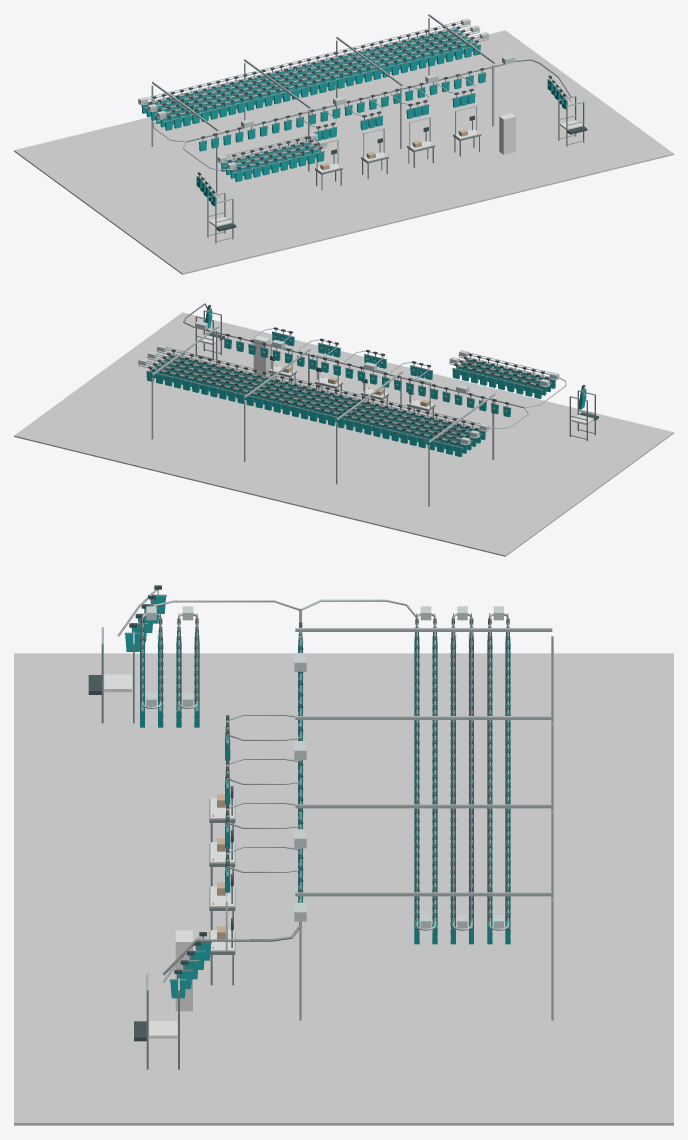
3 renders of one model, top to bottom at view 1: azimuth 30°, elevation 25°; view 2: azimuth 150°, elevation 25°; view 3: azimuth 270°, elevation 25°, orthographic. The views are drawn at different scales.
Visible parts, largest first — view 1: Floor, Long buffer loop 2, Long buffer loop 3, Long buffer loop 1, Control cabinet, Distribution trunk; view 2: Floor, Long buffer loop 1, Long buffer loop 2, Long buffer loop 3, Control cabinet, Distribution trunk; view 3: Floor, Overhead cross brace.002, Overhead cross brace.003, Overhead cross brace, Overhead cross brace.001, Distribution trunk, Control cabinet, Long buffer loop 3.
Boxes of the visible parts, x1=… form: Floor: x1=14, y1=30, x2=673, y2=274; Long buffer loop 2: x1=147, y1=29, x2=479, y2=112; Long buffer loop 3: x1=138, y1=22, x2=470, y2=105; Long buffer loop 1: x1=156, y1=36, x2=489, y2=118; Control cabinet: x1=499, y1=113, x2=515, y2=154; Distribution trunk: x1=186, y1=59, x2=571, y2=142; Floor: x1=14, y1=312, x2=673, y2=556; Long buffer loop 1: x1=156, y1=349, x2=489, y2=431; Long buffer loop 2: x1=147, y1=355, x2=479, y2=438; Long buffer loop 3: x1=138, y1=362, x2=470, y2=445; Control cabinet: x1=253, y1=335, x2=270, y2=376; Distribution trunk: x1=183, y1=303, x2=523, y2=407; Floor: x1=14, y1=653, x2=673, y2=1125; Overhead cross brace.002: x1=295, y1=804, x2=552, y2=808; Overhead cross brace.003: x1=295, y1=892, x2=552, y2=896; Overhead cross brace: x1=295, y1=628, x2=552, y2=631; Overhead cross brace.001: x1=295, y1=716, x2=552, y2=719; Distribution trunk: x1=162, y1=609, x2=301, y2=975; Control cabinet: x1=175, y1=930, x2=192, y2=1011; Long buffer loop 3: x1=488, y1=613, x2=508, y2=930.
Size of the model in its own units: 32 by 4.13 by 19.
